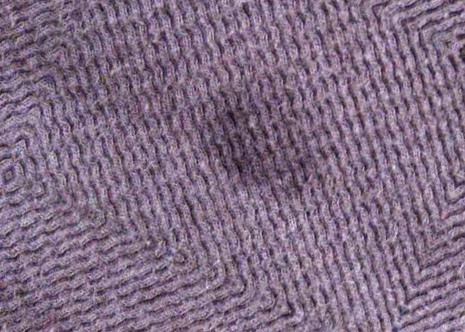stain: (197, 90, 313, 194)
